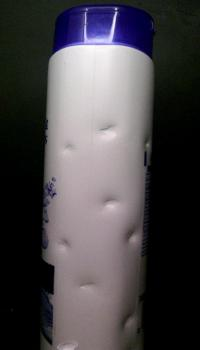dent_unacceptable: (93, 119, 126, 144), (74, 278, 112, 296), (51, 236, 86, 255), (117, 307, 143, 332), (118, 224, 145, 248), (96, 194, 132, 211), (58, 142, 84, 161), (54, 335, 84, 349), (136, 136, 157, 153)
